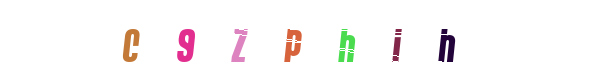9: (171, 0, 251, 80)
C: (146, 0, 226, 80)
H: (306, 0, 386, 80), (406, 0, 486, 80)
I: (365, 0, 445, 80)
P: (263, 0, 343, 80)
Z: (218, 0, 298, 80)
